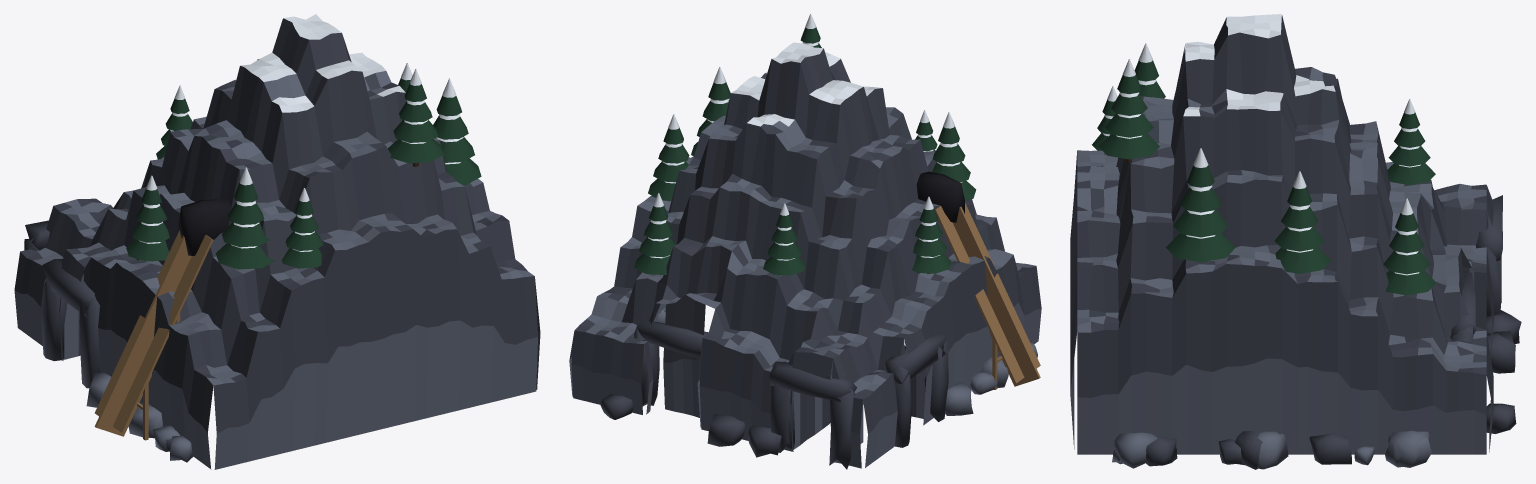
Rendered from hg-mountain.glb.
The picture shows the model from 3 angles, left to right: view 1: azimuth 30°, elevation 25°; view 2: azimuth 150°, elevation 25°; view 3: azimuth 270°, elevation 25°; orthographic projection. The views are drawn at different scales.
Visible parts, largest first — view 1: hg-mountain; view 2: hg-mountain; view 3: hg-mountain.
Part boxes in pixels (x1=…): hg-mountain: x1=14, y1=14, x2=540, y2=469; hg-mountain: x1=569, y1=14, x2=1041, y2=469; hg-mountain: x1=1070, y1=14, x2=1521, y2=469.
Size of the model in its own units: 18.37 by 14.55 by 16.42.
